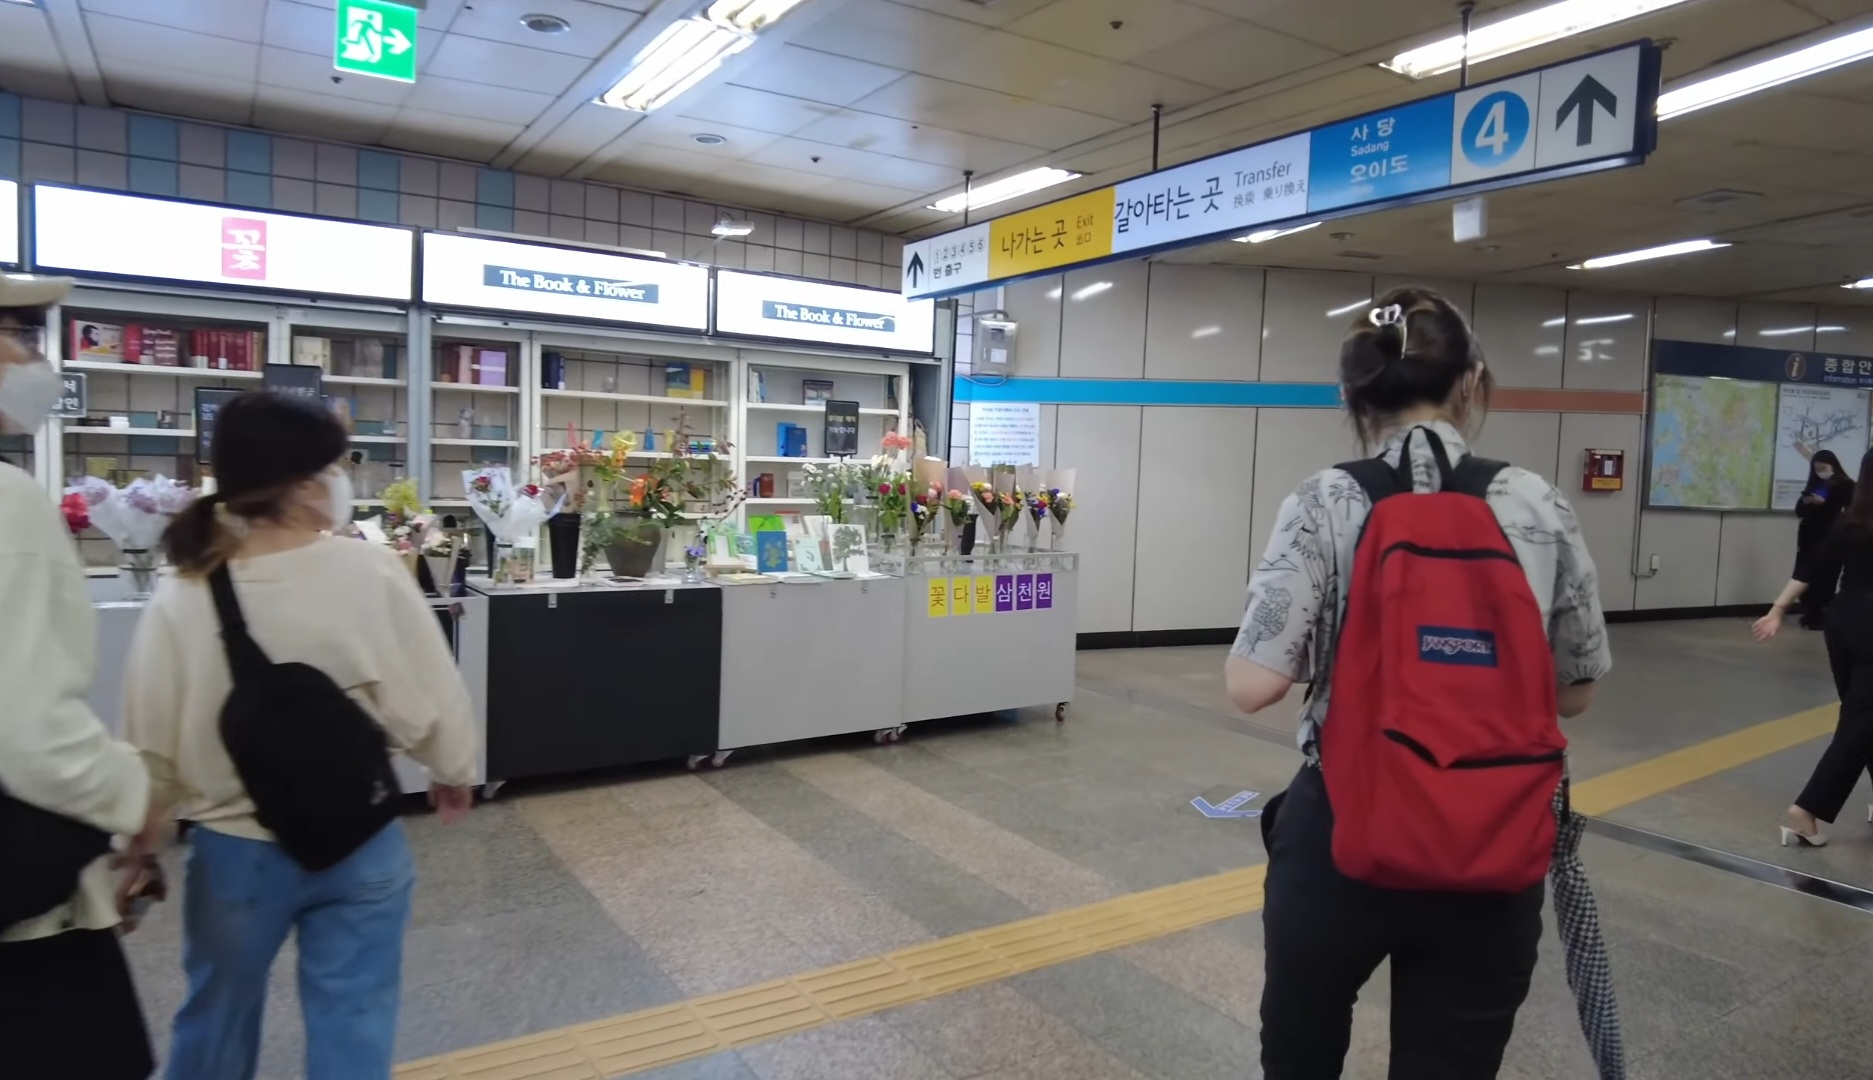signBoard: (882, 17, 1670, 312)
